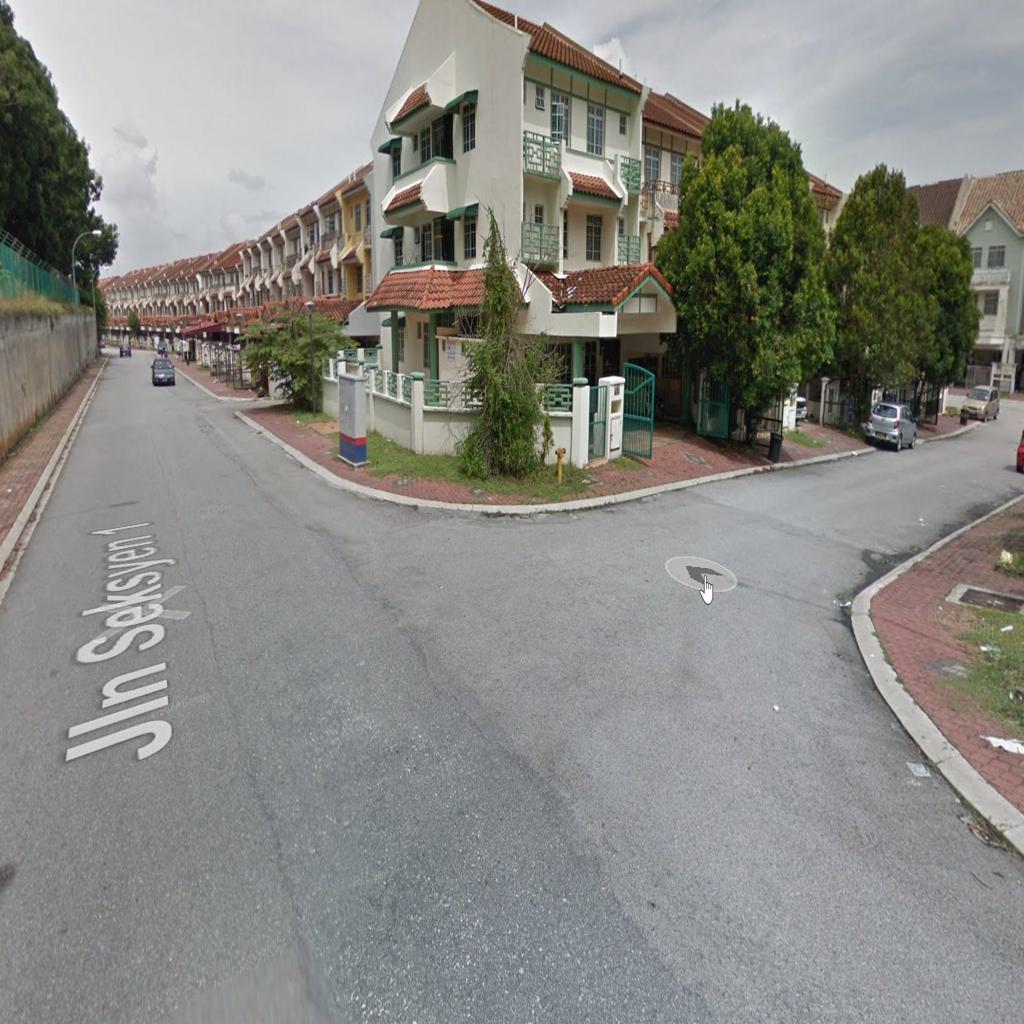Junction: (381, 473, 964, 757), (204, 377, 269, 415)
